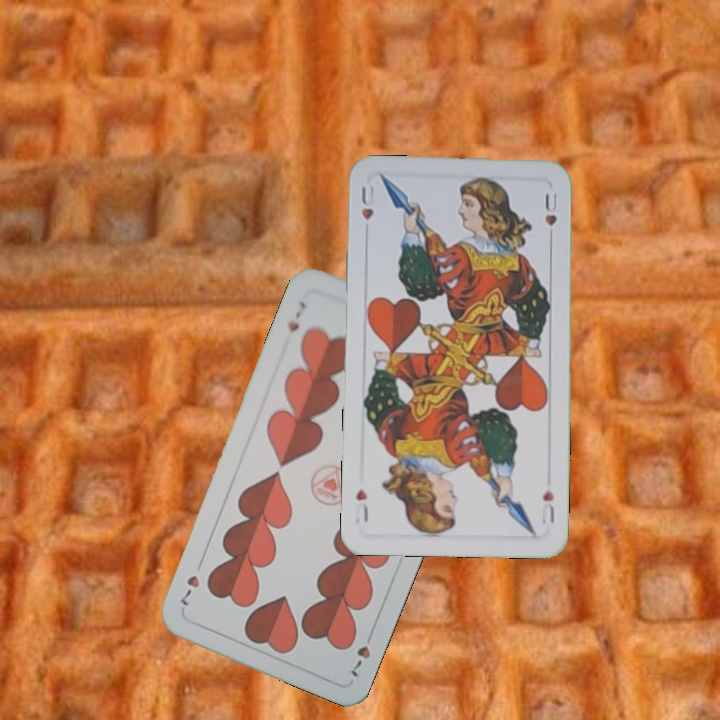H7: (345, 626, 377, 681), (282, 297, 309, 335)
HU: (357, 180, 377, 223), (537, 485, 557, 526)
